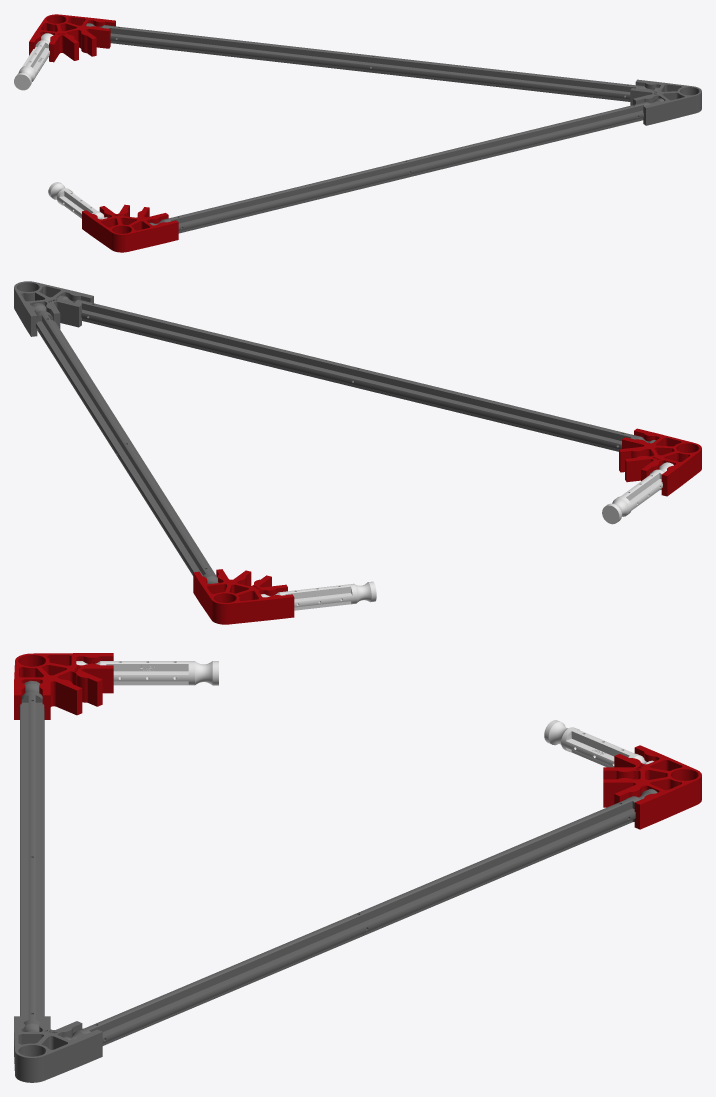
3 views of the same model, one above another, from view 1: azimuth 30°, elevation 25°; view 2: azimuth 150°, elevation 25°; view 3: azimuth 270°, elevation 25° (orthographic). The views are drawn at different scales.
Visible parts, largest first — view 1: Untitled.1458, Untitled.1459, Untitled.1455, Untitled.1457, Untitled.1460, Untitled.1456, transform1.003; view 2: Untitled.1459, Untitled.1458, Untitled.1457, Untitled.1455, Untitled.1460, Untitled.1456, transform1.003; view 3: Untitled.1458, Untitled.1459, Untitled.1457, Untitled.1455, Untitled.1460, transform1.003, Untitled.1456.
Boxes of the visible parts, x1,y1,x2,y2 form: Untitled.1458: (86,23,658,101); Untitled.1459: (149,98,663,233); Untitled.1455: (82,204,178,252); Untitled.1457: (29,14,115,62); Untitled.1460: (630,79,701,125); Untitled.1456: (14,33,53,90); transform1.003: (48,182,107,219); Untitled.1459: (57,295,655,451); Untitled.1458: (32,303,218,583); Untitled.1457: (193,569,294,624); Untitled.1455: (619,428,701,496); Untitled.1460: (14,281,93,336); Untitled.1456: (261,581,376,610); transform1.003: (602,462,673,524); Untitled.1458: (63,789,657,1045); Untitled.1459: (20,681,44,1031); Untitled.1457: (603,745,701,829); Untitled.1455: (14,653,113,719); Untitled.1460: (14,1016,102,1082); transform1.003: (76,661,218,685); Untitled.1456: (544,720,653,767).
Bounding box in the file's own units: 2.16 × 0.062 × 1.55.
